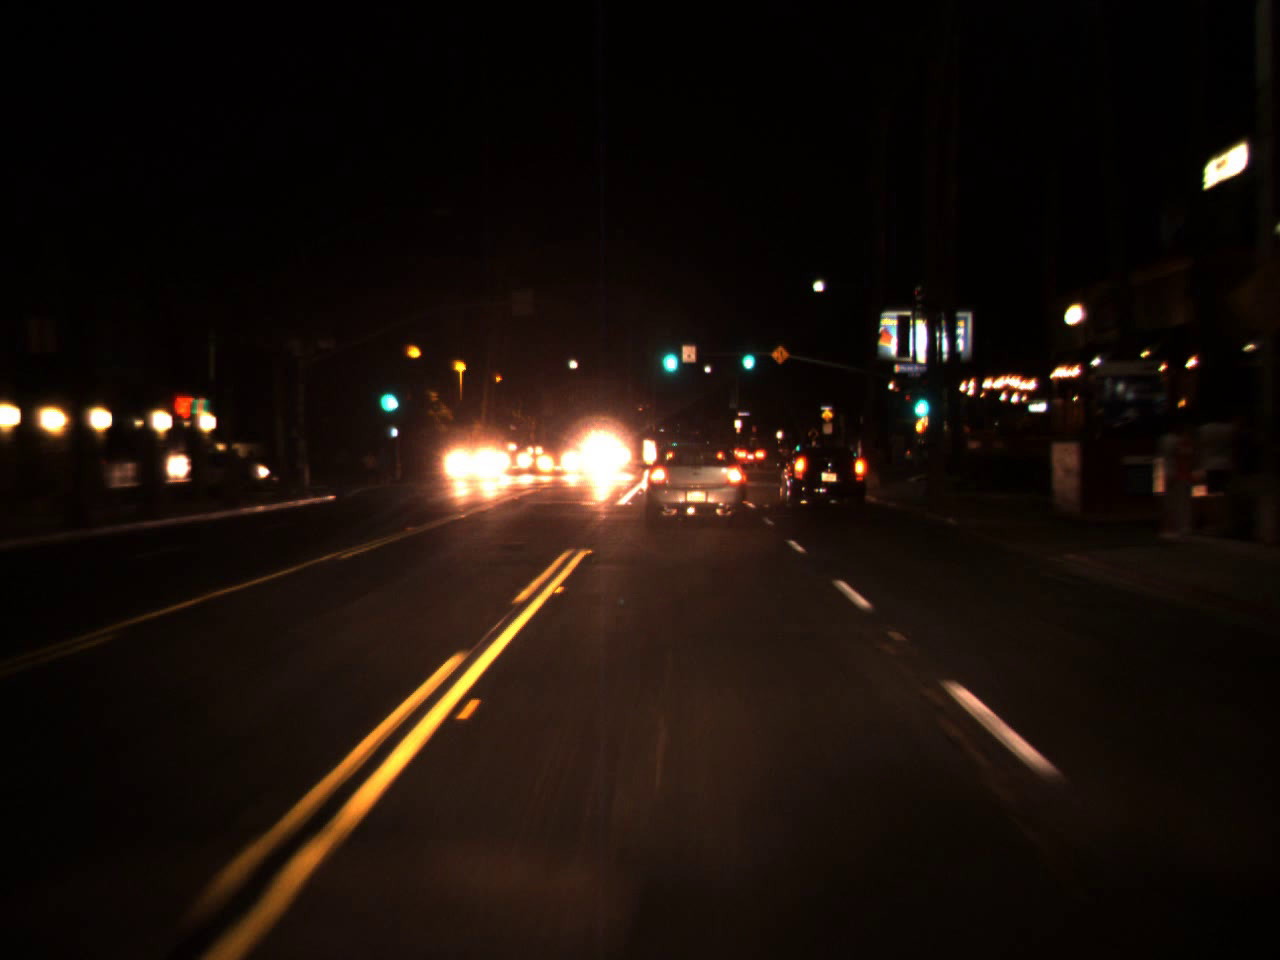go: (657, 328, 680, 379), (908, 376, 931, 424), (377, 371, 395, 419), (737, 339, 756, 372)
